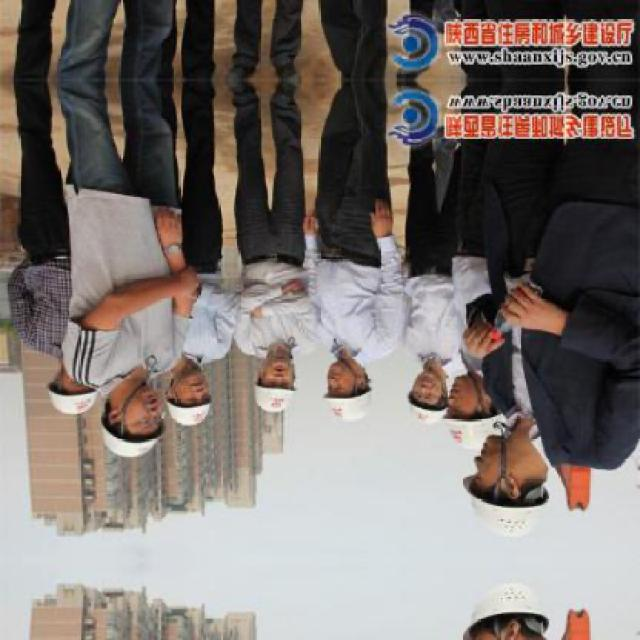con casco: (447, 455, 560, 545), (310, 357, 386, 426), (85, 400, 161, 462), (45, 372, 121, 432), (172, 380, 224, 441), (404, 375, 456, 435), (237, 365, 313, 403)
